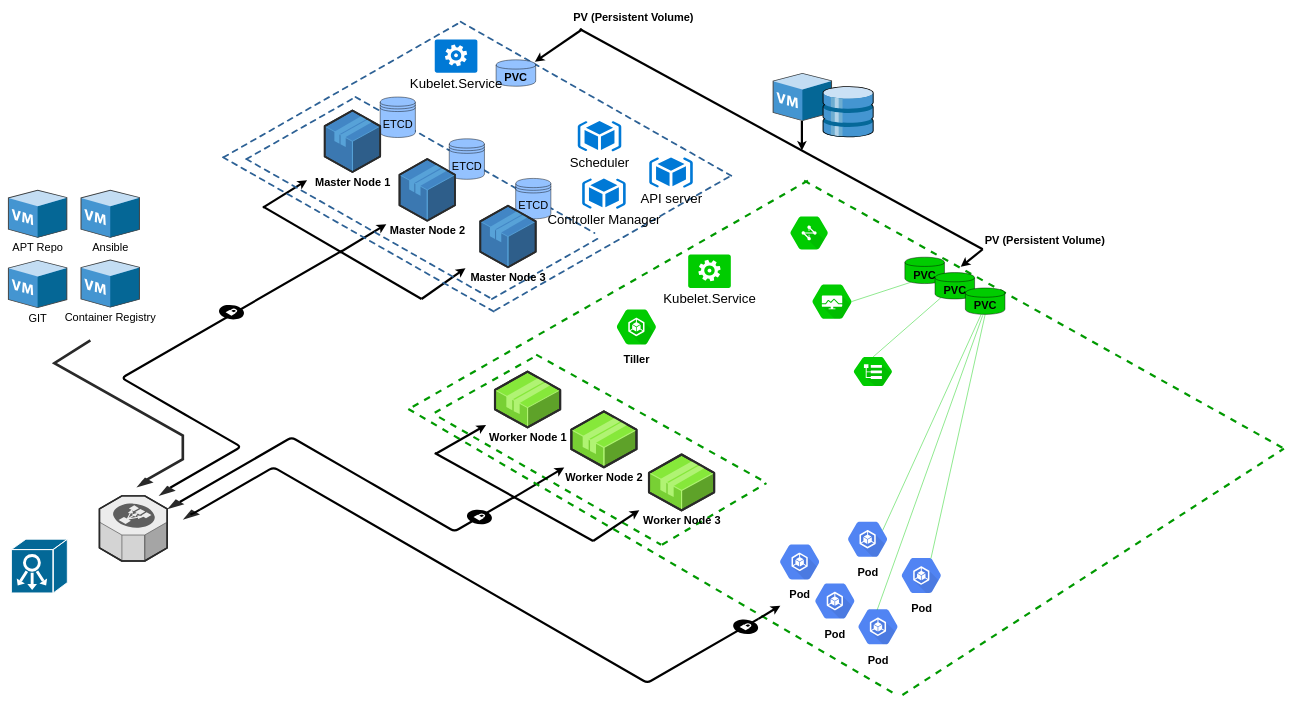
This 1293x704 diagram has some shape labels left out. Here are the shapes that lost their labels. From the top down, the centre of each, then its label:
At [848,111]: "NFS".
At [809,233]: "Calico/CNI".
At [832,301]: "Monitoring Prometheus/Grafana".
At [872,371]: "Logging EFK".
At [133,528]: "HA Proxy".
At [39,566]: "Load Banalcer NSX or NGINX".
